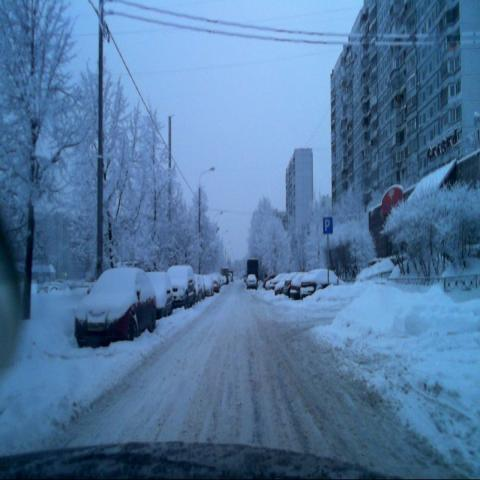6_4: (322, 215, 333, 235)
